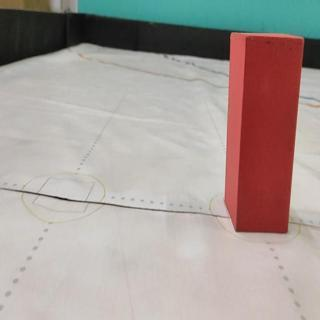redbox: (223, 31, 304, 234)
